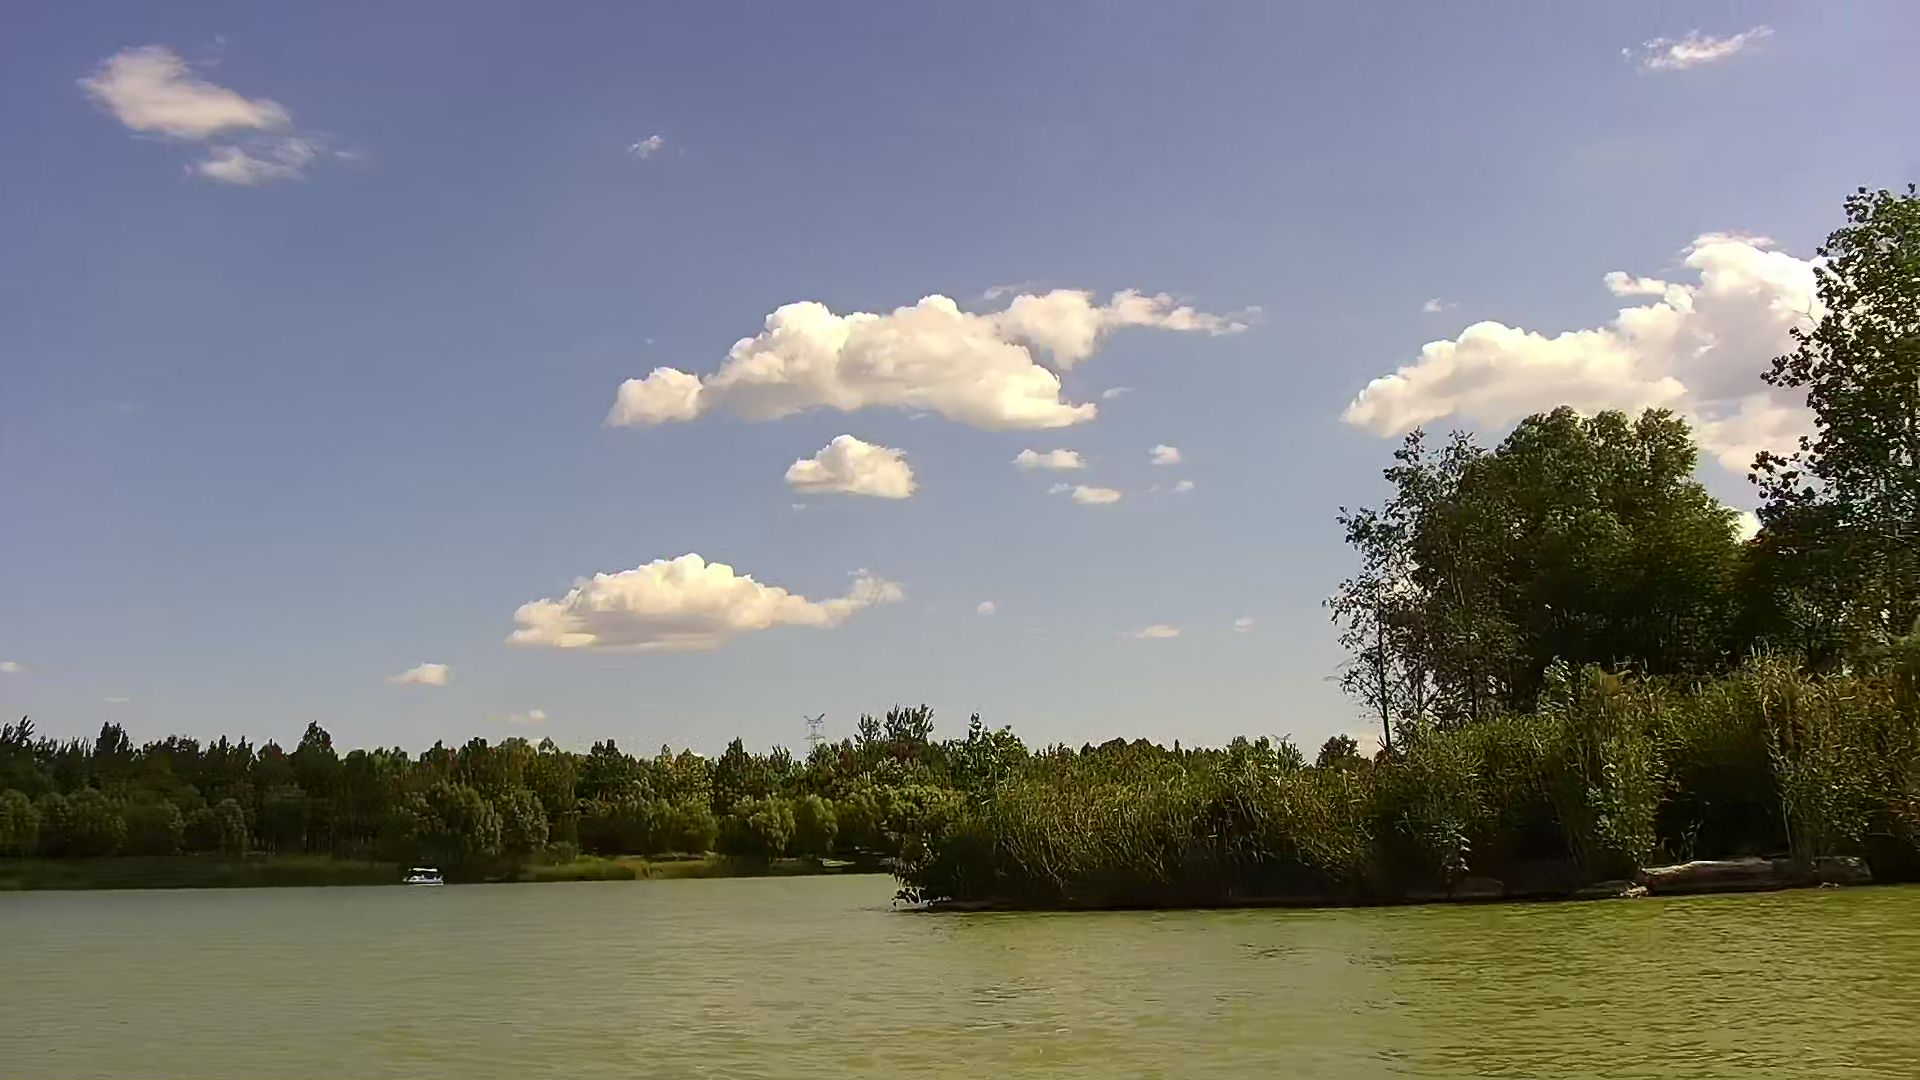boat: (393, 865, 440, 889)
rock: (1636, 857, 1788, 894)
